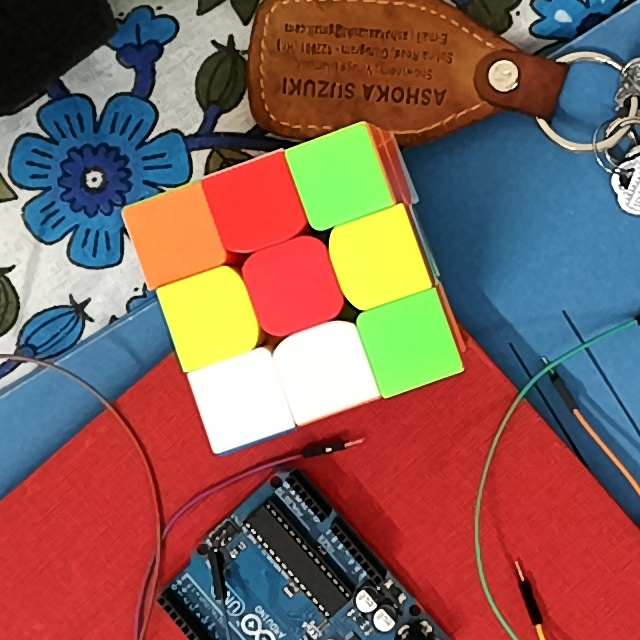tile: (221, 173, 288, 238), (260, 253, 325, 317), (377, 311, 441, 375), (178, 284, 241, 348), (347, 227, 409, 292), (304, 148, 371, 208), (212, 369, 274, 431), (145, 202, 205, 266), (293, 341, 355, 398)
